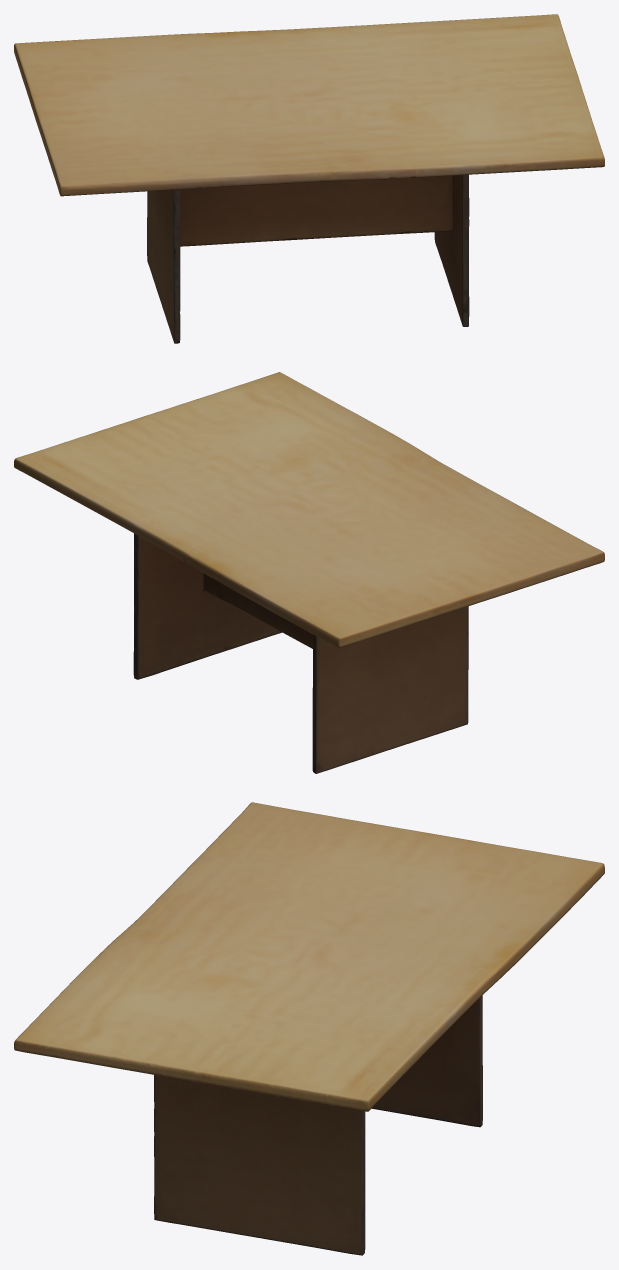
3 views of the same model, one above another, from view 1: azimuth 30°, elevation 25°; view 2: azimuth 150°, elevation 25°; view 3: azimuth 270°, elevation 25° (orthographic). The views are drawn at different scales.
Visible parts, largest first — view 1: instance_0029; view 2: instance_0029; view 3: instance_0029.
Part boxes in pixels (x1,y1,x2,y2): instance_0029: [14, 14, 604, 343]; instance_0029: [14, 372, 604, 773]; instance_0029: [14, 802, 604, 1255].
Size of the model in its own units: 4.2 by 1.45 by 3.5.
